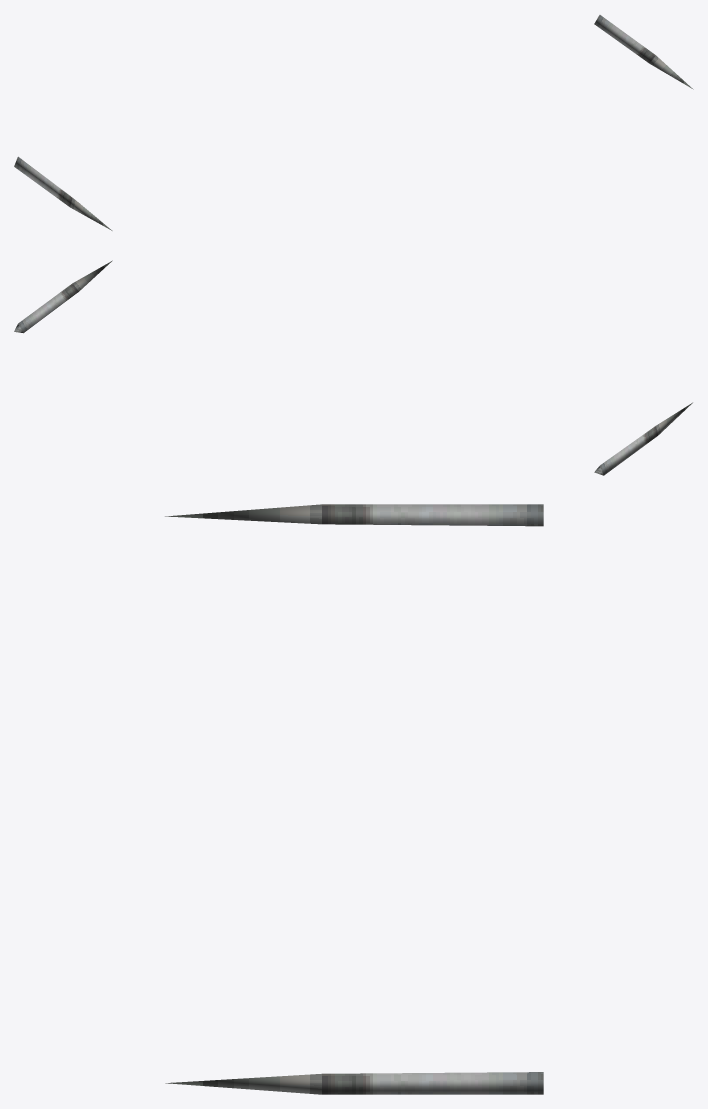
File: hutt_fighter_light_weapon_s05_l3.fbx
3 views of the same model, one above another, from view 1: azimuth 30°, elevation 25°; view 2: azimuth 150°, elevation 25°; view 3: azimuth 270°, elevation 25° (orthographic). The views are drawn at different scales.
Visible parts, largest first — view 1: mesh_node; view 2: mesh_node; view 3: mesh_node.
Boxes of the visible parts, <box> form: mesh_node: <box>14,15,693,230</box>; mesh_node: <box>14,260,692,475</box>; mesh_node: <box>165,504,543,1094</box>.
Size of the model in its own units: 3.39 by 0.0537 by 0.9422.
Materials: 1 (1 with a texture image).
